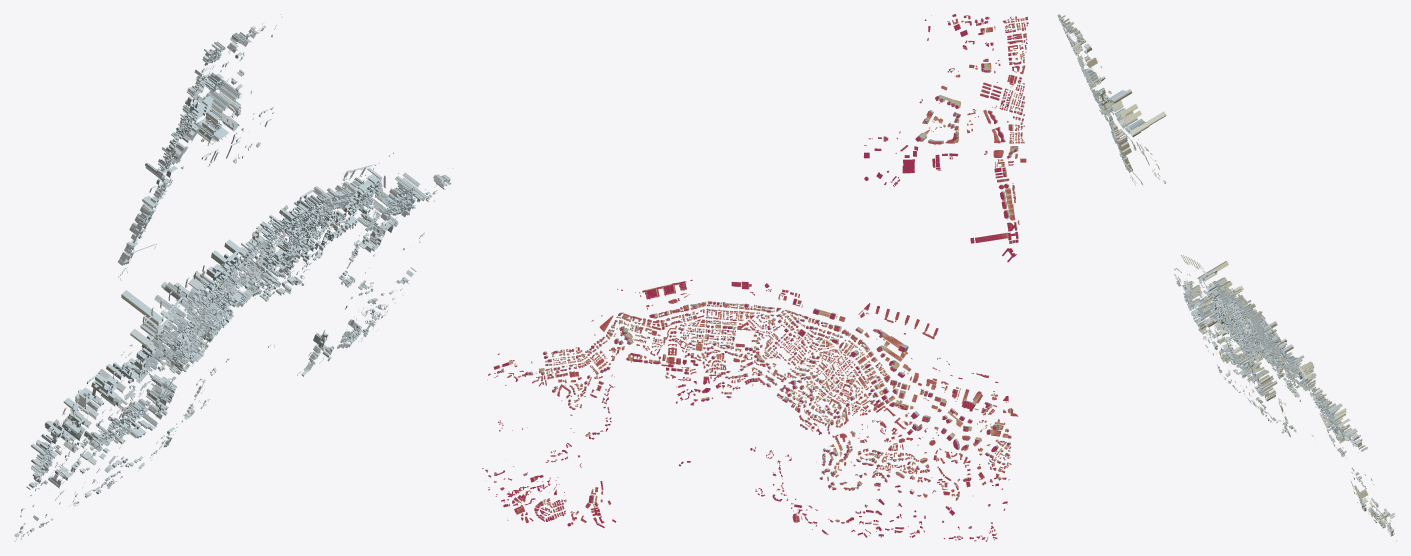
3 views of the same model, side by side, from view 1: azimuth 30°, elevation 25°; view 2: azimuth 150°, elevation 25°; view 3: azimuth 270°, elevation 25° (orthographic). The views are drawn at different scales.
Visible parts, largest first — view 1: geometry_0; view 2: geometry_0; view 3: geometry_0.
Boxes of the visible parts, x1,y1,x2,y2 form: geometry_0: [14, 14, 452, 541]; geometry_0: [482, 14, 1028, 541]; geometry_0: [1057, 14, 1396, 541].
Bounding box in the file's own units: 4716 × 4673 × 3679.
